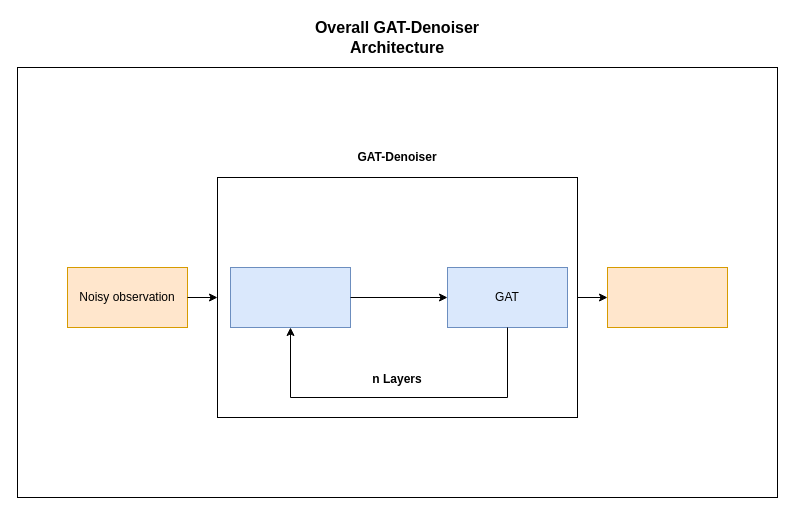
The diagram is 795 pixels wide and 515 high, and some of its shapes have lost their labels. Each missing label, with the centre of its shape:
Convolution: the point at 290,297
denoised observation: the point at 667,297
